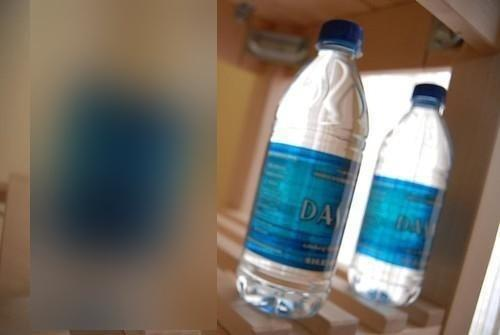bottle-plastic: (234, 18, 371, 317), (349, 81, 453, 304)
